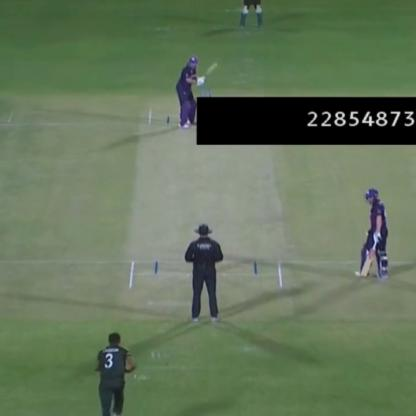pitch: (124, 107, 286, 309)
